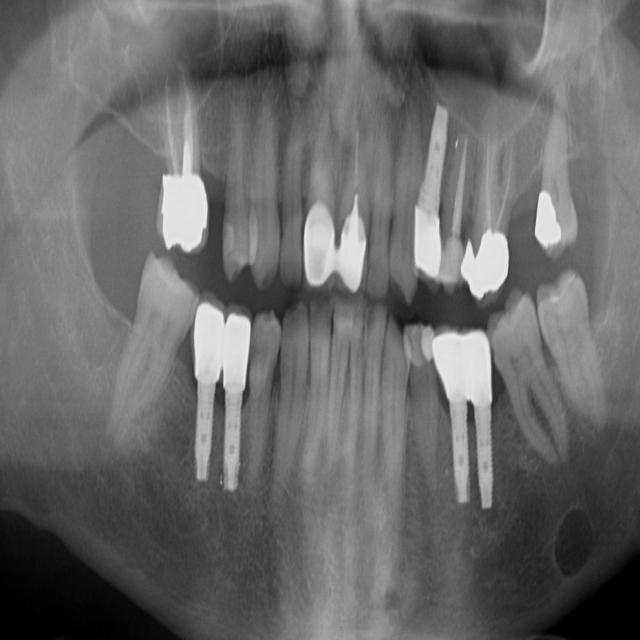implant: (432, 323, 474, 530), (463, 320, 506, 513), (412, 90, 450, 303), (192, 283, 227, 491), (222, 284, 250, 503)
kanal-tedavisi: (150, 44, 206, 180), (475, 129, 512, 235), (446, 119, 470, 243)
kaplama: (156, 169, 211, 253), (334, 202, 378, 302), (300, 200, 337, 295), (464, 236, 513, 302), (526, 189, 570, 253)
kok-enfeksiyonu: (546, 473, 610, 596)
